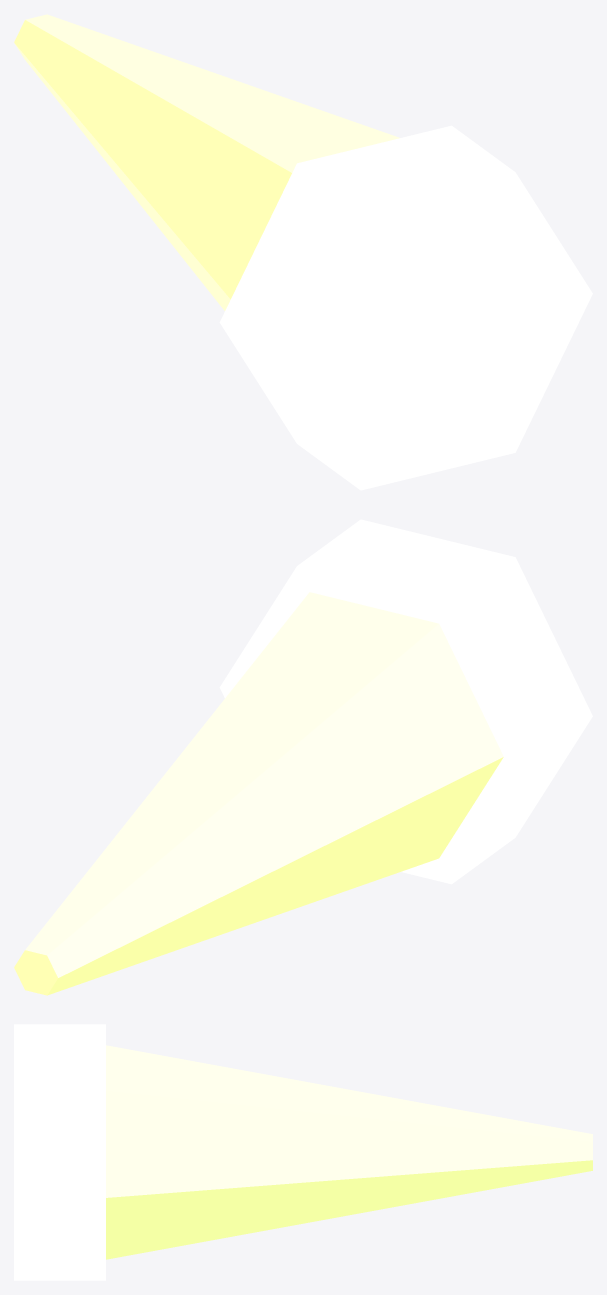
The model's file is jet.glb.
3 views of the same model, one above another, from view 1: azimuth 30°, elevation 25°; view 2: azimuth 150°, elevation 25°; view 3: azimuth 270°, elevation 25° (orthographic). The views are drawn at different scales.
Parts seen in each view (by area): view 1: Core, Flame; view 2: Flame, Core; view 3: Flame, Core.
Boxes of the visible parts, x1=… form: Core: x1=219, y1=125, x2=592, y2=490; Flame: x1=14, y1=14, x2=399, y2=310; Flame: x1=14, y1=592, x2=503, y2=995; Core: x1=219, y1=519, x2=592, y2=884; Flame: x1=106, y1=1045, x2=592, y2=1259; Core: x1=14, y1=1024, x2=105, y2=1280.
Bounding box in the file's own units: 0.28 × 0.2425 × 0.63.
